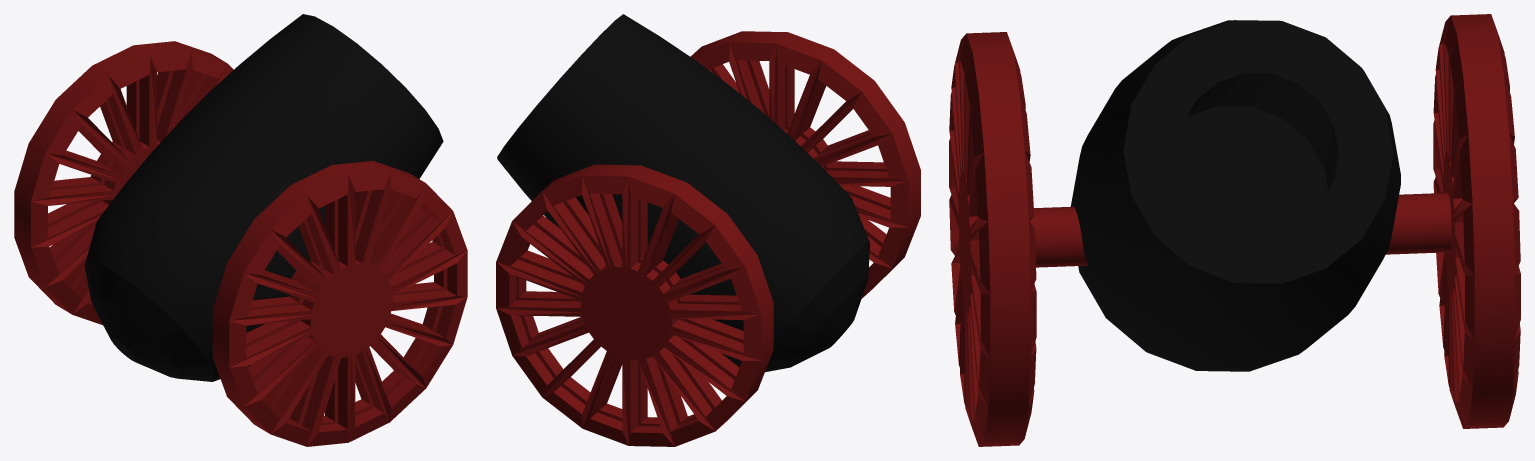
File: MazeCannon.FBX
The picture shows the model from 3 angles, left to right: view 1: azimuth 30°, elevation 25°; view 2: azimuth 150°, elevation 25°; view 3: azimuth 270°, elevation 25°; orthographic projection. The views are drawn at different scales.
Visible parts, largest first — view 1: Wheels, Body; view 2: Wheels, Body; view 3: Body, Wheels.
Boxes of the visible parts, bbox=[...] form: Wheels: bbox=[14, 41, 467, 446]; Body: bbox=[84, 14, 443, 381]; Wheels: bbox=[496, 31, 920, 446]; Body: bbox=[497, 14, 869, 372]; Body: bbox=[1070, 20, 1400, 371]; Wheels: bbox=[949, 14, 1520, 446].
Size of the model in its own units: 3.08 by 2.94 by 3.3.
